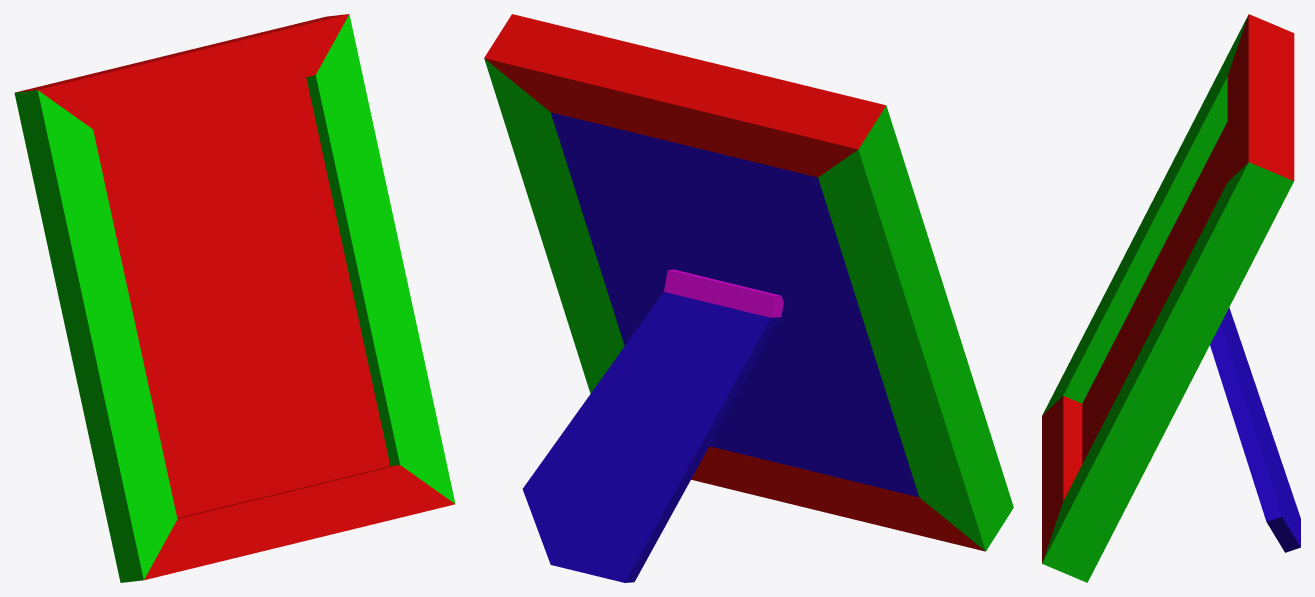
Rendered from table_photoframe.FBX.
3 renders of one model, left to right at view 1: azimuth 30°, elevation 25°; view 2: azimuth 150°, elevation 25°; view 3: azimuth 270°, elevation 25°, orthographic. The views are drawn at different scales.
Visible parts, largest first — view 1: Box001; view 2: Box001; view 3: Box001.
Boxes of the visible parts, x1,y1,x2,y2 form: Box001: (14, 14, 455, 582); Box001: (484, 14, 1013, 582); Box001: (1042, 14, 1300, 582).
Size of the model in its own units: 0.105 by 0.0775 by 0.1391.
